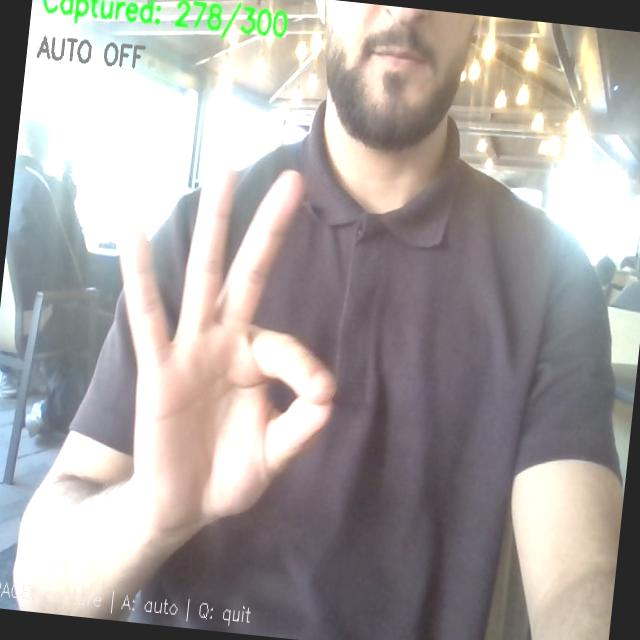Hand: (121, 164, 334, 540)
